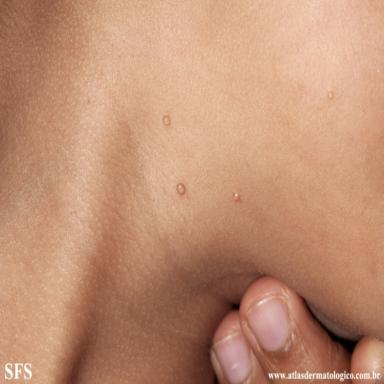Molluscum-Contagiosum: (175, 183, 186, 195), (162, 114, 171, 127), (233, 192, 241, 202), (328, 91, 333, 99)
